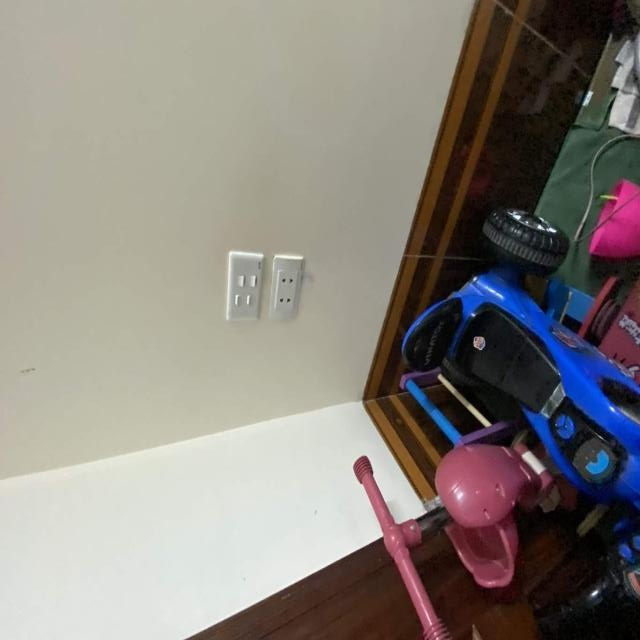outlet: (267, 255, 305, 321)
